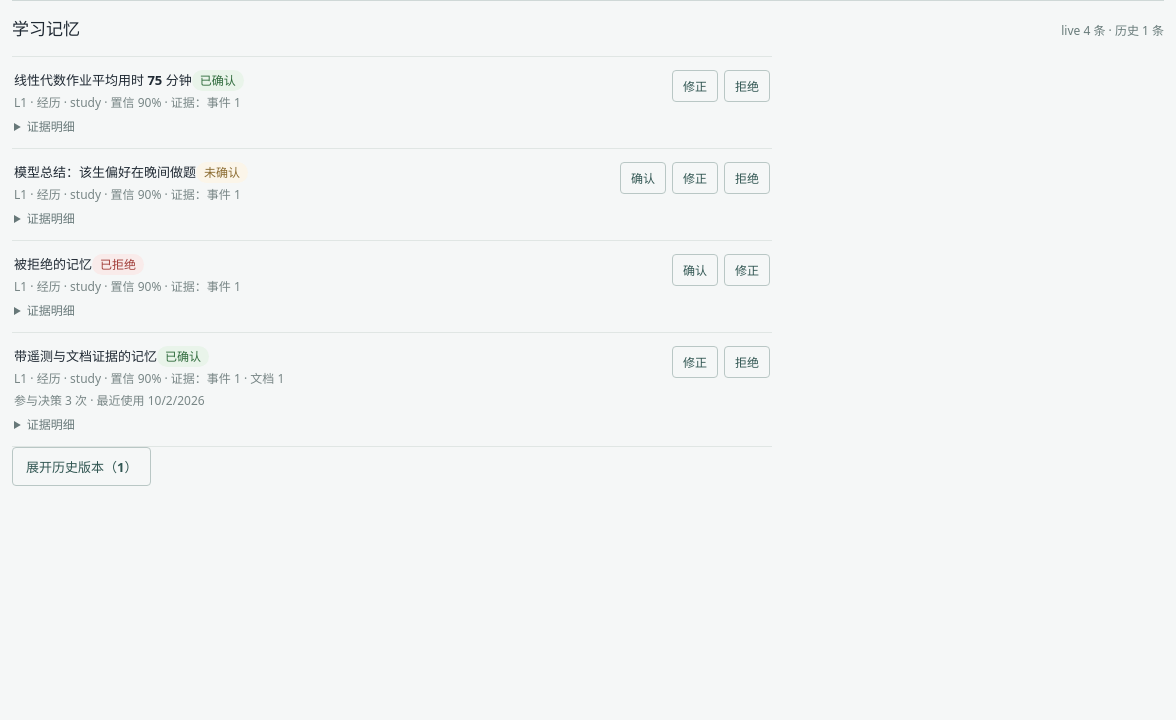
it: MemoryView（「可修正」验收句的落点） › 主列表只显示 live 行，历史版本折叠且有计数
expect the text "线性代数作业平均用时 75 分钟" is shown: met, box [14,71,192,89]
expect the text "live 4 条 · 历史 1 条" is shown: met, box [1061,21,1164,39]
Click the button "展开历史版本（1）".
click(82, 466)  # box [12,447,151,486]
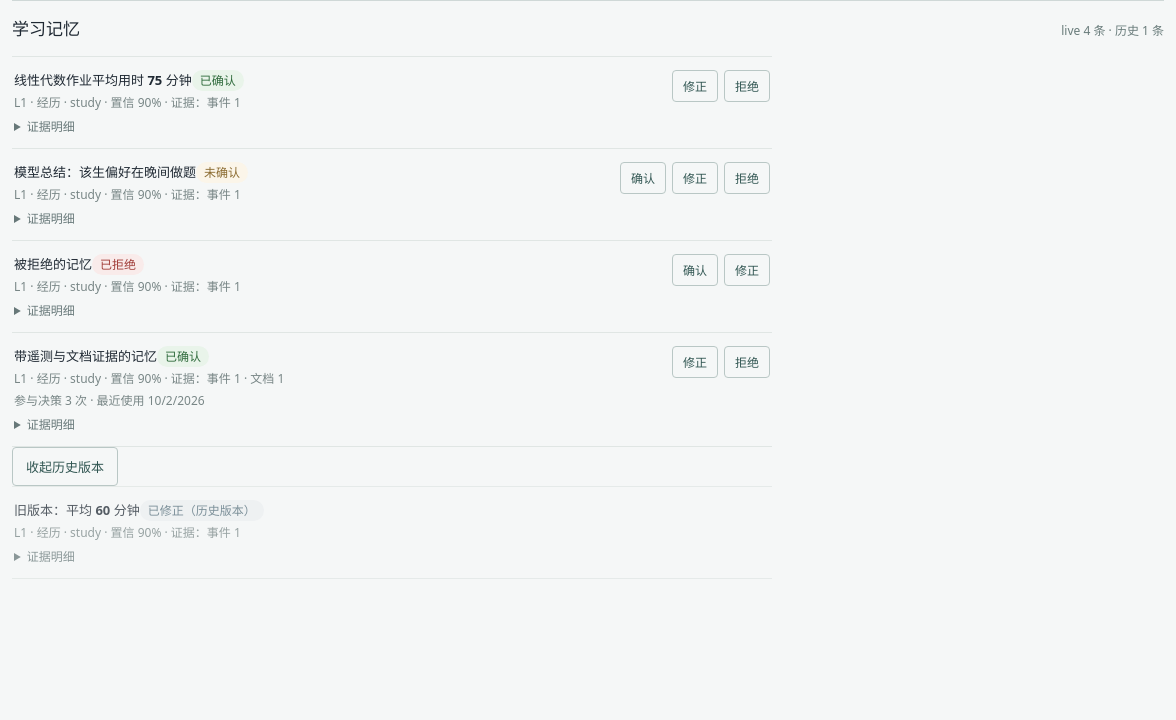
expect the text "旧版本：平均 60 分钟" is shown: met, box [14,501,140,519]
